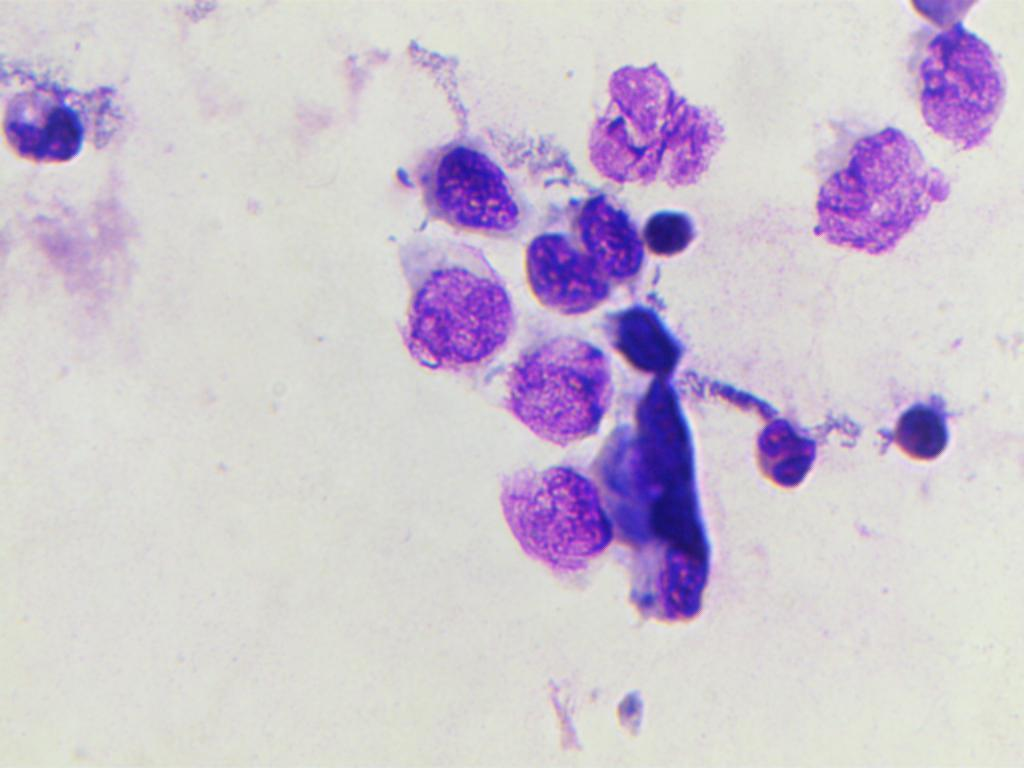artifact: (609, 299, 717, 624)
epithelial: (568, 53, 753, 209), (390, 37, 528, 240), (797, 124, 958, 276), (364, 233, 519, 376), (466, 462, 618, 577), (910, 12, 1016, 158), (510, 322, 613, 443), (524, 227, 613, 329), (570, 184, 644, 280)
neutrophil: (1, 82, 98, 162), (747, 413, 821, 494), (883, 397, 960, 466), (644, 202, 698, 267)
